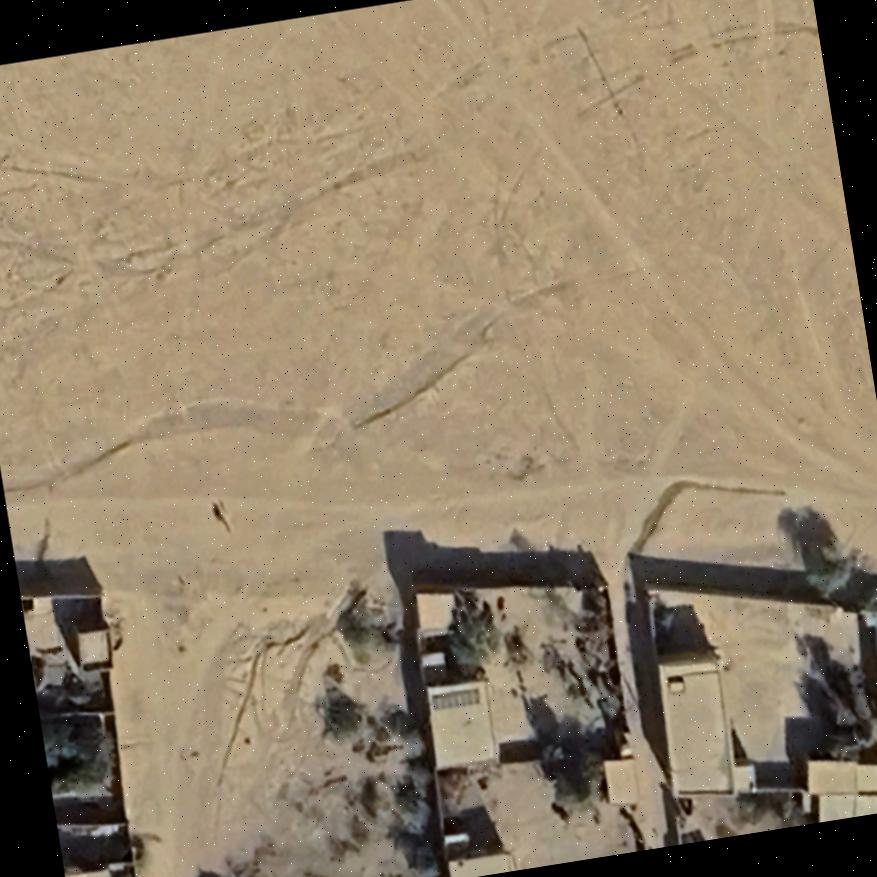Solarpanel: (424, 682, 486, 711)
